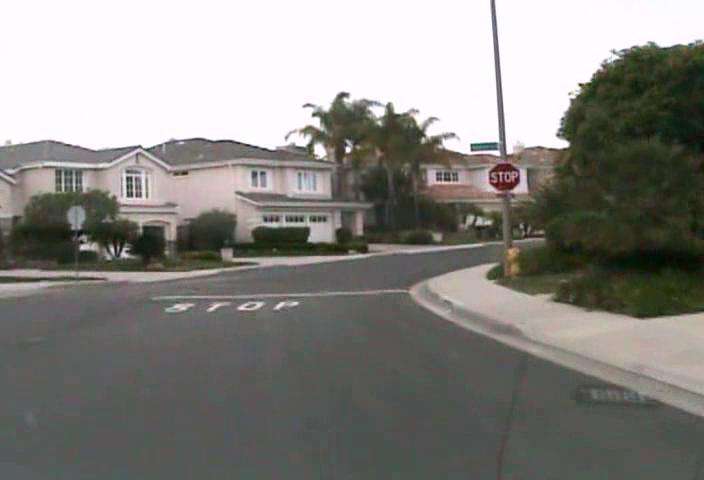stop: (487, 161, 521, 192)
